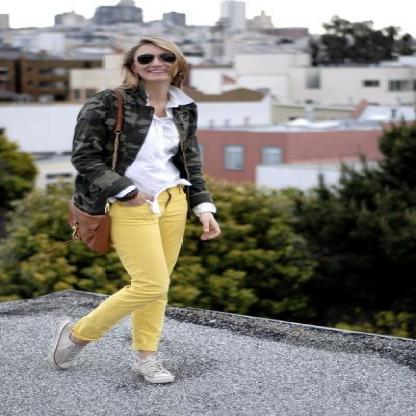bag: (62, 208, 113, 254)
jacket: (62, 75, 205, 218)
pants: (57, 192, 187, 352)
shirt: (123, 112, 186, 207)
shoe: (46, 329, 174, 382)
sunglass: (141, 42, 177, 62)
